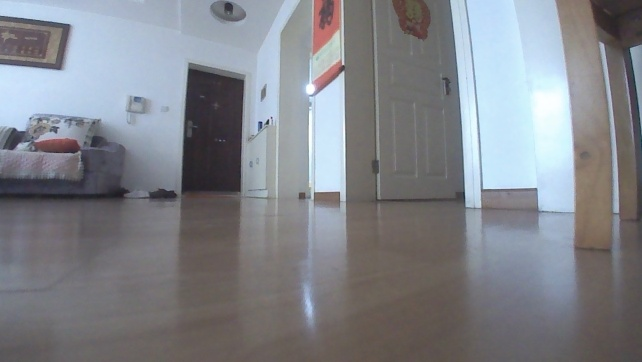door_anno: (366, 0, 458, 204), (181, 68, 248, 199)
sofa: (0, 109, 126, 198)
